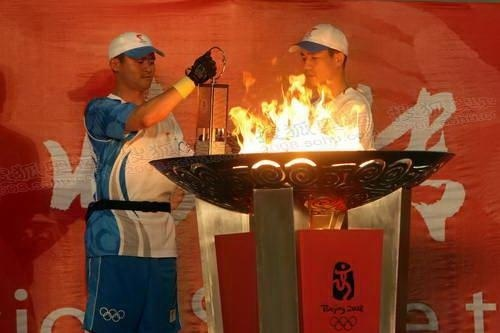fire: (232, 75, 365, 152)
